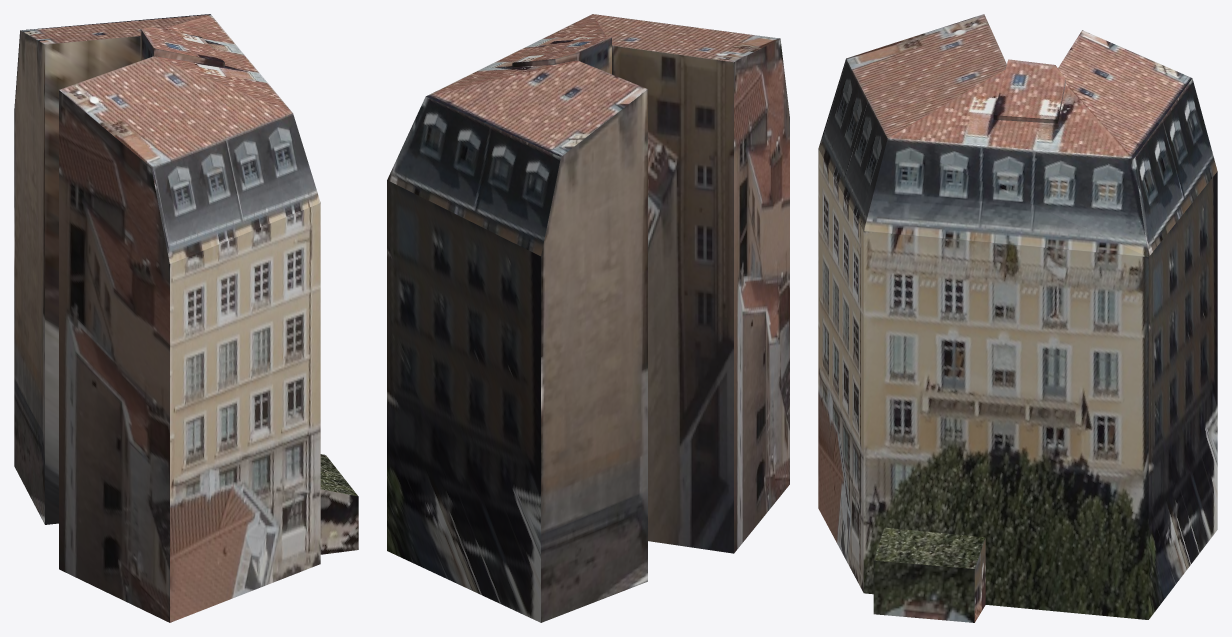
The picture shows the model from 3 angles, left to right: view 1: azimuth 30°, elevation 25°; view 2: azimuth 150°, elevation 25°; view 3: azimuth 270°, elevation 25°; orthographic projection. The views are drawn at different scales.
Visible parts, largest first — view 1: Z_UP; view 2: Z_UP; view 3: Z_UP.
Part boxes in pixels (x1,y1,x2,y2): Z_UP: (14, 14, 358, 622); Z_UP: (387, 14, 789, 622); Z_UP: (818, 14, 1217, 622).
Bounding box in the file's own units: 15.97 × 28.29 × 20.99.
Materials: 2 (1 with a texture image).
